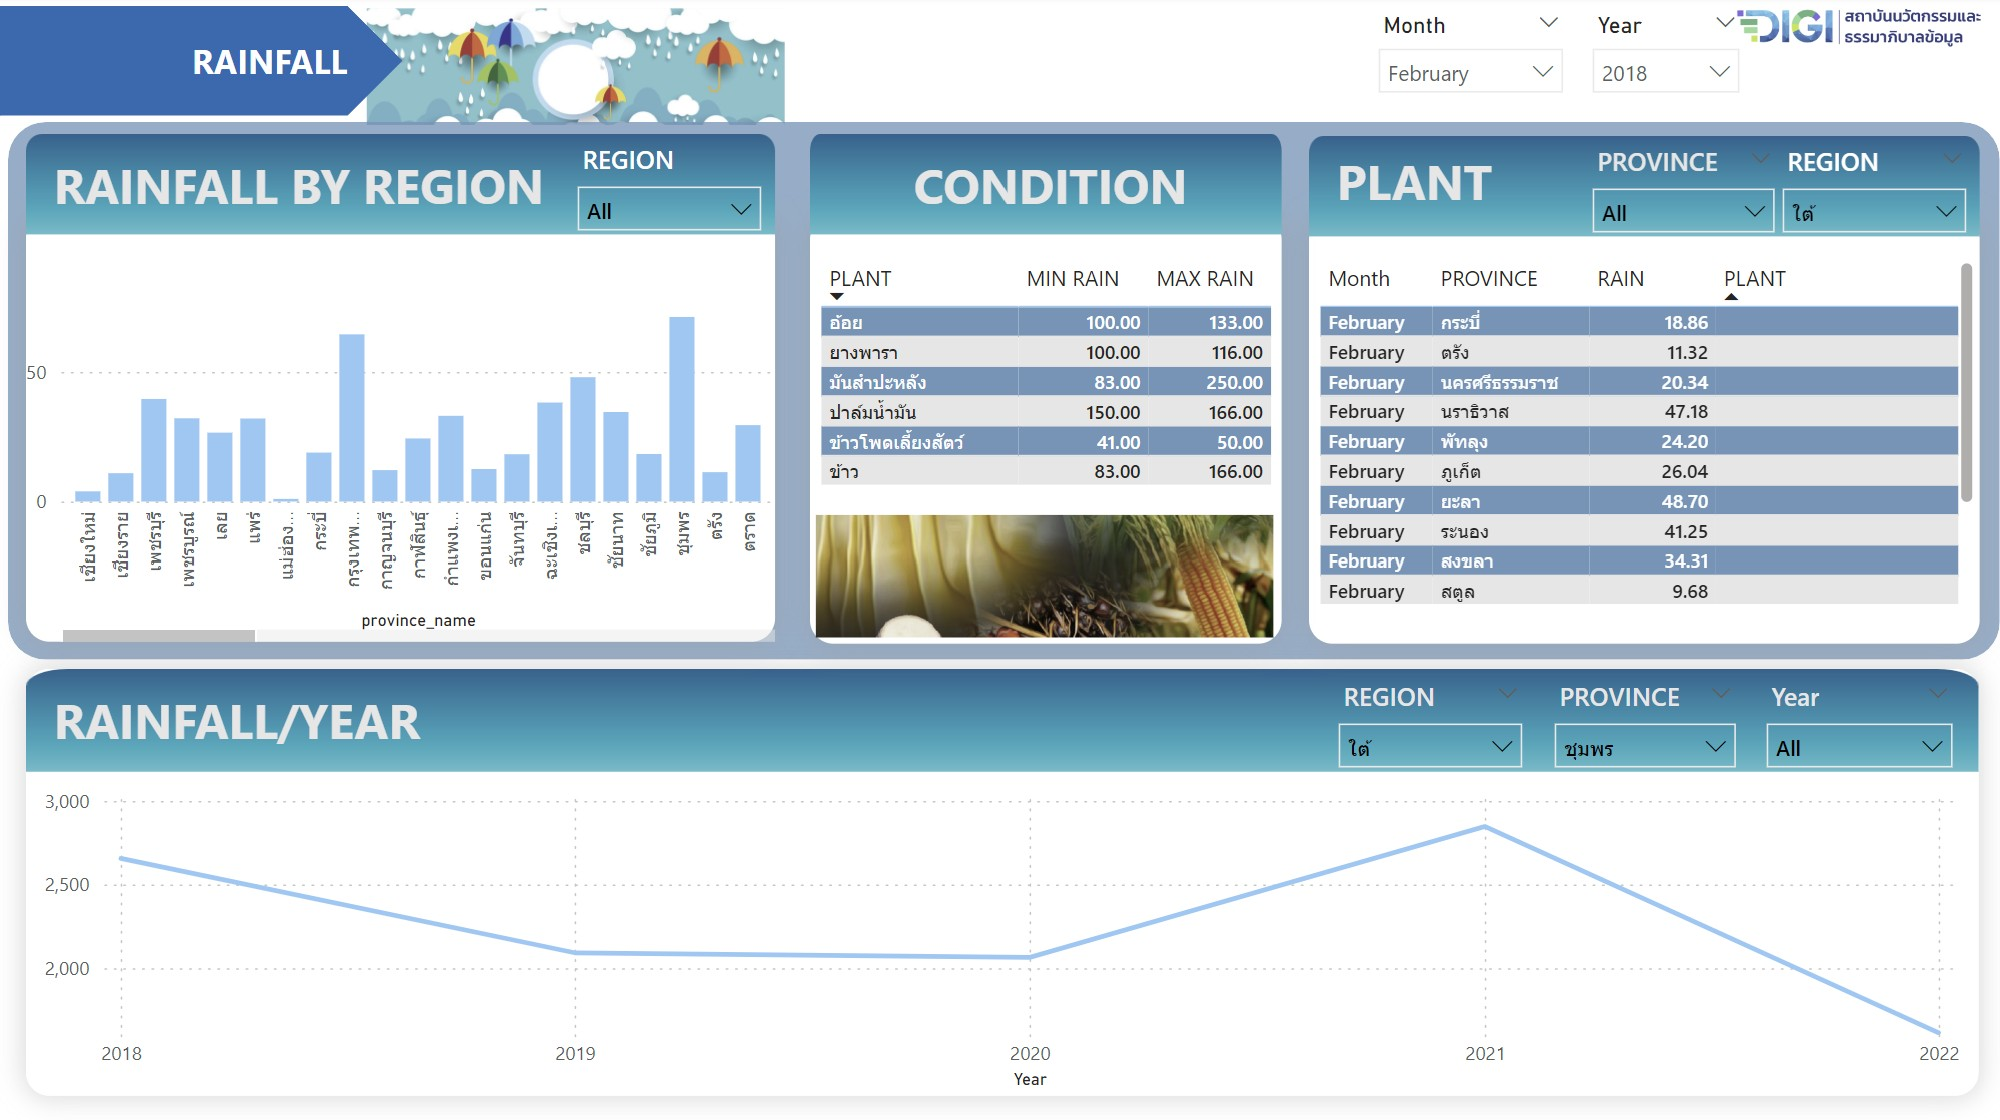

Layout of this report page (visuals, bound fields, positions):
{"tool":"powerbi","page":{"name":"DB","canvas":[1280,720],"ordinal":0},"visuals":[{"type":"image","box":[228.3,0,276.9,92.3],"z":0},{"type":"shape","box":[5,81.3,1269.1,342.1],"z":1000},{"type":"shape","box":[17.1,429.3,1244.2,272.2],"z":2000},{"type":"image","box":[17.1,429.3,1244.2,65.3],"z":3000},{"type":"lineChart","title":"ปริมาณน้ำฝนเฉลี่ยต่อปี","fields":{"Y":["Sum(rainfall.avg_rain)"],"Category":["rainfall.date.Variation.Date Hierarchy.Year"]},"box":[23.3,499.2,1230.2,202.2],"z":4000},{"type":"shape","box":[17.1,140,477.5,272.2],"z":5000},{"type":"shape","box":[833.6,141.5,427.7,272.2],"z":6000},{"type":"image","box":[17.1,88.7,477.5,63.8],"z":7000},{"type":"shape","box":[516.4,141.5,300.2,272.2],"z":8000},{"type":"clusteredColumnChart","title":"RAIN BY PROVINCE ","fields":{"Category":["rainfall.date.Variation.Date Hierarchy.Month","province.province_name"],"Y":["Avg(rainfall.avg_rain)"]},"box":[17.1,182,477.5,230.2],"z":9000},{"type":"image","box":[1085.6,0,196,42],"z":10000},{"type":"shape","box":[0,7.8,256.6,70],"z":11000},{"type":"slicer","fields":{"Values":["rainfall.date.Variation.Date Hierarchy.Month"]},"box":[867.9,6.6,137.4,63.4],"z":12000},{"type":"slicer","fields":{"Values":["rainfall.date.Variation.Date Hierarchy.Year"]},"box":[1005.2,6.6,113.6,63.4],"z":13000},{"type":"slicer","fields":{"Values":["rainfall.region"]},"box":[357.7,88.7,136.9,63.8],"z":14000},{"type":"slicer","fields":{"Values":["province.province_name"]},"box":[979.8,430.8,135.3,63.8],"z":15000},{"type":"slicer","fields":{"Values":["rainfall.region"]},"box":[843,430.8,136.9,63.8],"z":16000},{"type":"slicer","fields":{"Values":["rainfall.date.Variation.Date Hierarchy.Year"]},"box":[1115.1,430.8,138.4,63.8],"z":17000},{"type":"tableEx","fields":{"Values":["rainfall.date.Variation.Date Hierarchy.Month","province.province_name","rainfall.#AVG_RAIN","CONDITION.#VWSTK_AC_TEST"]},"box":[835.1,165.5,427.7,227.1],"z":18000},{"type":"tableEx","fields":{"Values":["CONDITION.name","Sum(CONDITION.min_value)","Sum(CONDITION.max_value)"]},"box":[517.8,165.5,300.2,183.5],"z":19000},{"type":"image","box":[516.4,88.7,300.2,63.8],"z":20000},{"type":"textbox","title":"RAINFALL BY REGION","box":[29.6,101.1,396.6,80.9],"z":21000},{"type":"textbox","title":"CONDITION","box":[577,101.1,203.7,85.5],"z":22000},{"type":"image","box":[833.6,90.2,427.7,63.8],"z":23000},{"type":"textbox","title":"PLANT","box":[846.1,98,203.7,85.5],"z":24000},{"type":"textbox","title":"RAINFALL/YEAR","box":[29.1,441.2,397.6,80.6],"z":25000},{"type":"slicer","fields":{"Values":["province.province_name"]},"box":[1005.2,90.7,136.1,62.9],"z":26000},{"type":"slicer","fields":{"Values":["rainfall.region"]},"box":[1125.8,90.7,137.1,63.9],"z":27000},{"type":"image","box":[515.1,220.6,300.9,300.9],"z":28000}]}

Visuals, with their boxes in screenshot pixels (x1, y1, x2, y2), scaled from the page's 1280x720 canvas onto the 2000x1120 screenshot:
image: bbox=[357, 0, 789, 144]
shape: bbox=[8, 126, 1991, 659]
shape: bbox=[27, 668, 1971, 1091]
image: bbox=[27, 668, 1971, 769]
"ปริมาณน้ำฝนเฉลี่ยต่อปี" lineChart: bbox=[36, 777, 1959, 1091]
shape: bbox=[27, 218, 773, 641]
shape: bbox=[1302, 220, 1971, 644]
image: bbox=[27, 138, 773, 237]
shape: bbox=[807, 220, 1276, 644]
"RAIN BY PROVINCE " clusteredColumnChart: bbox=[27, 283, 773, 641]
image: bbox=[1696, 0, 1999, 65]
shape: bbox=[0, 12, 401, 121]
slicer - rainfall.date.Variation.Date Hierarchy.Month: bbox=[1356, 10, 1571, 109]
slicer - rainfall.date.Variation.Date Hierarchy.Year: bbox=[1571, 10, 1748, 109]
slicer - rainfall.region: bbox=[559, 138, 773, 237]
slicer - province.province_name: bbox=[1531, 670, 1742, 769]
slicer - rainfall.region: bbox=[1317, 670, 1531, 769]
slicer - rainfall.date.Variation.Date Hierarchy.Year: bbox=[1742, 670, 1959, 769]
tableEx - rainfall.date.Variation.Date Hierarchy.Month x province.province_name: bbox=[1305, 257, 1973, 611]
tableEx - CONDITION.name x Sum(CONDITION.min_value): bbox=[809, 257, 1278, 543]
image: bbox=[807, 138, 1276, 237]
"RAINFALL BY REGION" textbox: bbox=[46, 157, 666, 283]
"CONDITION" textbox: bbox=[902, 157, 1220, 290]
image: bbox=[1302, 140, 1971, 240]
"PLANT" textbox: bbox=[1322, 152, 1640, 285]
"RAINFALL/YEAR" textbox: bbox=[45, 686, 667, 812]
slicer - province.province_name: bbox=[1571, 141, 1783, 239]
slicer - rainfall.region: bbox=[1759, 141, 1973, 240]
image: bbox=[805, 343, 1275, 811]
